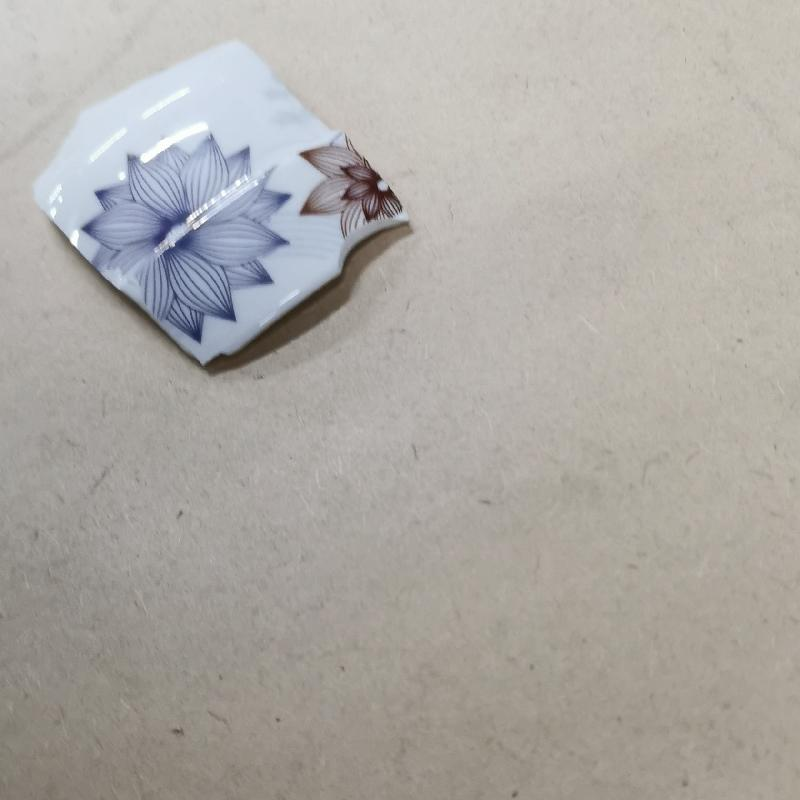ceram: (31, 35, 415, 378)
